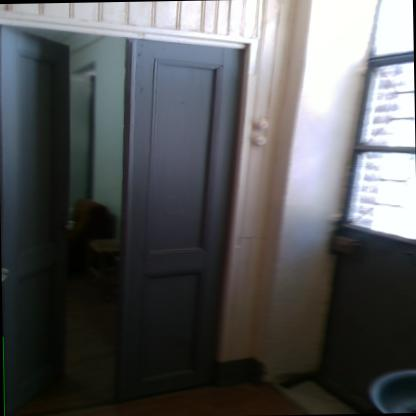semi: (0, 14, 258, 415)
